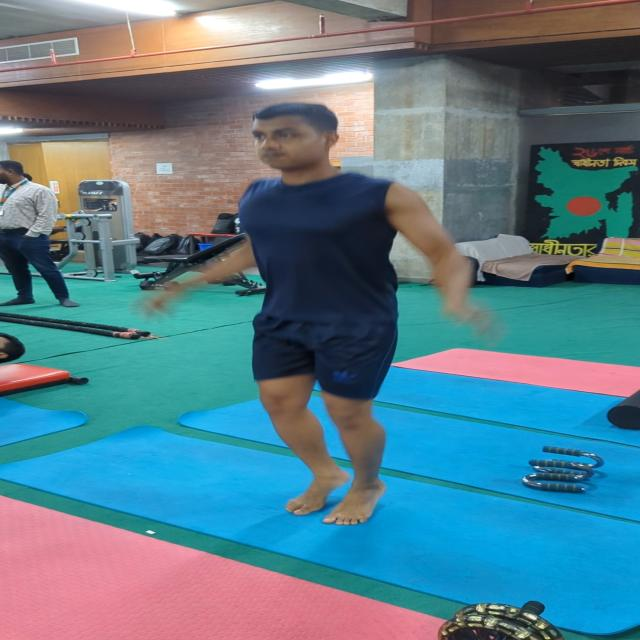Normal_JumpingJacks: (126, 96, 512, 552)
